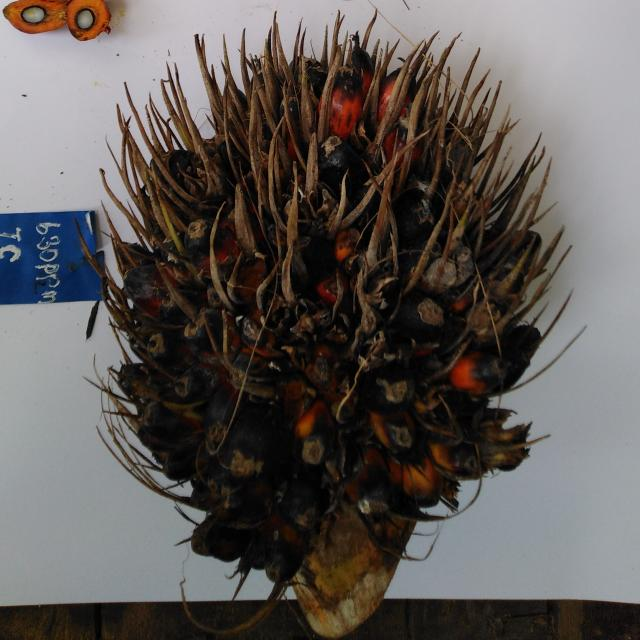FFB: (130, 47, 516, 561)
